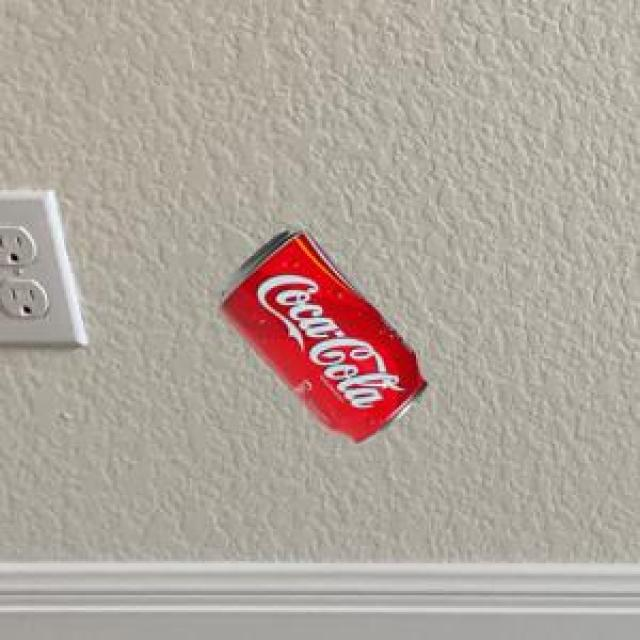logam: (217, 227, 423, 443)
